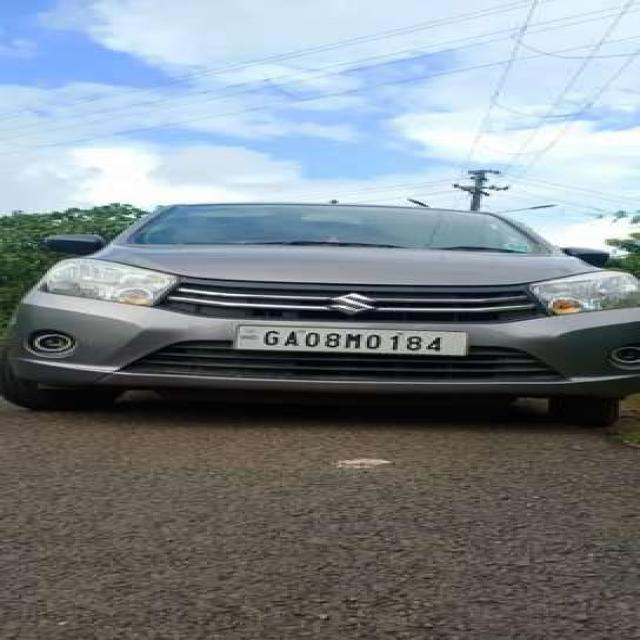Plate: (232, 324, 469, 356)
